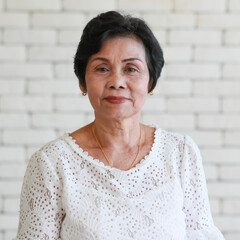young: (67, 10, 164, 127)
